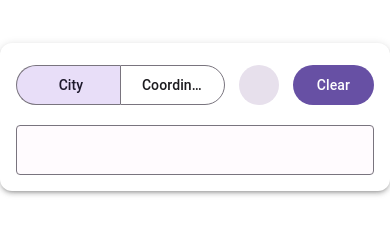
Test: SearchBar + useCitySearch integration › searches after debounce, selects a city and shows its label in the input
In the field named "Search city": [195, 151] box [16,127,374,175], type "Par"
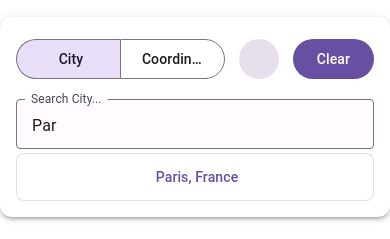
Debounced search (500ms) resolves and populates the dropdown
Click the button "Paris, France": [195, 177] box [17,158,373,196]
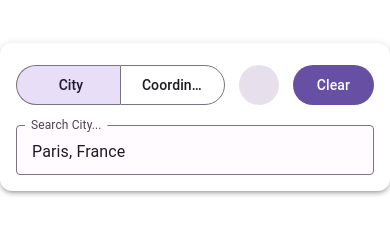
Now the field named "Search city" holds "Paris, France", box [16,127,374,175]
